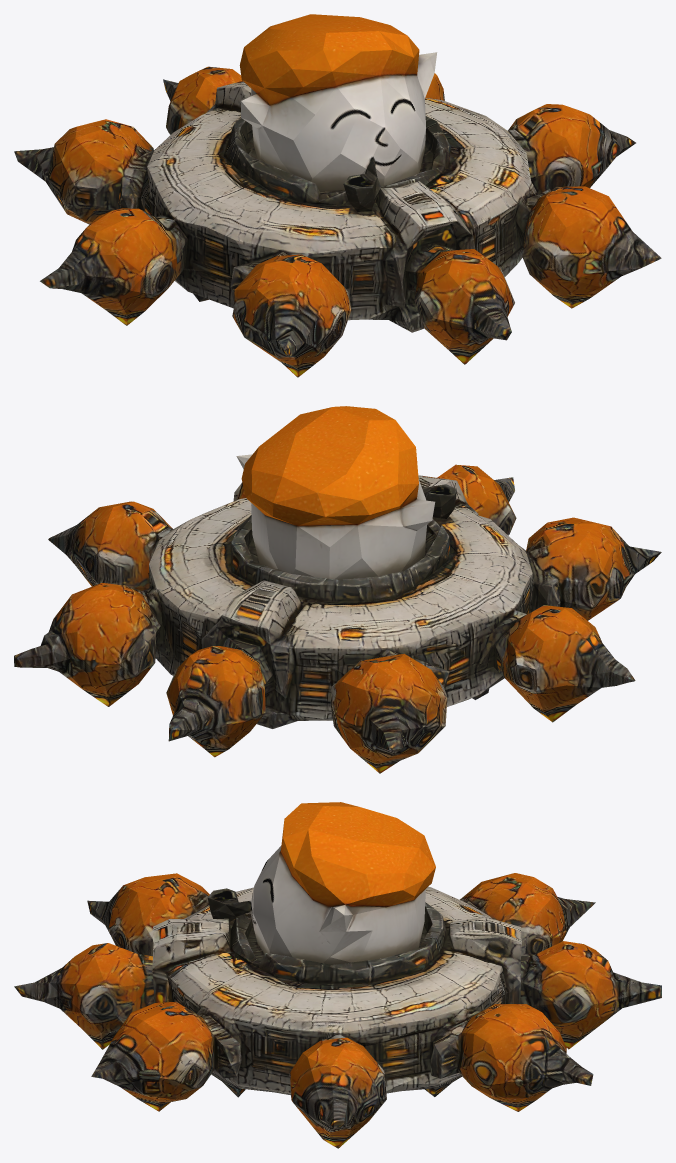
The model's file is からあげ円盤.glb.
The picture shows the model from 3 angles, top to bottom: view 1: azimuth 30°, elevation 25°; view 2: azimuth 150°, elevation 25°; view 3: azimuth 270°, elevation 25°; orthographic projection. The views are drawn at different scales.
Parts seen in each view (by area): view 1: Mesh; view 2: Mesh; view 3: Mesh.
Boxes of the visible parts, x1=… form: Mesh: x1=14, y1=14, x2=661, y2=377; Mesh: x1=14, y1=406, x2=661, y2=773; Mesh: x1=14, y1=802, x2=661, y2=1148.
Bounding box in the file's own units: 1.73 × 0.7037 × 1.75.
Materials: 1 (1 with a texture image).
